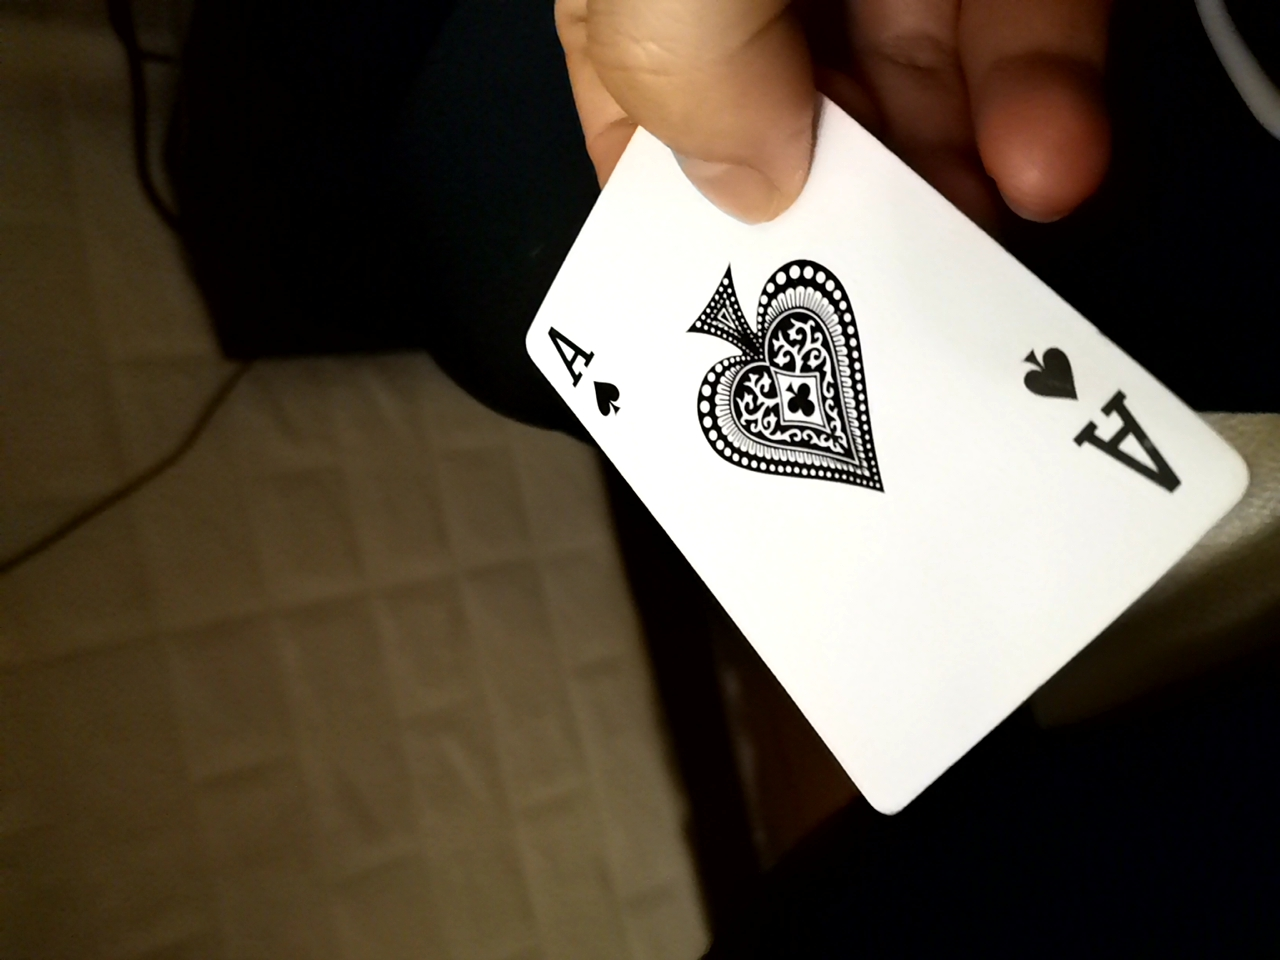ht a: (499, 98, 1230, 842)
